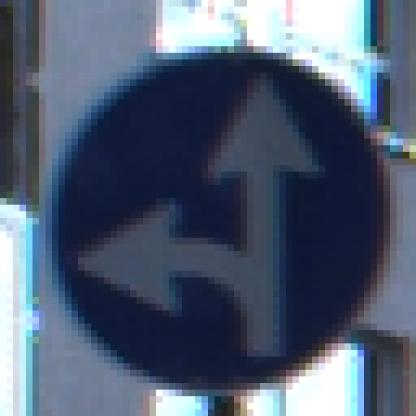Straight or Left: (34, 34, 385, 384)
